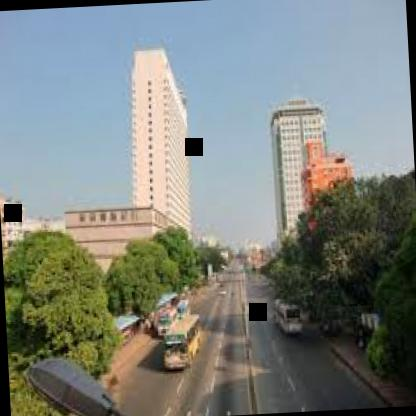car: (144, 311, 219, 394), (265, 286, 306, 339)
